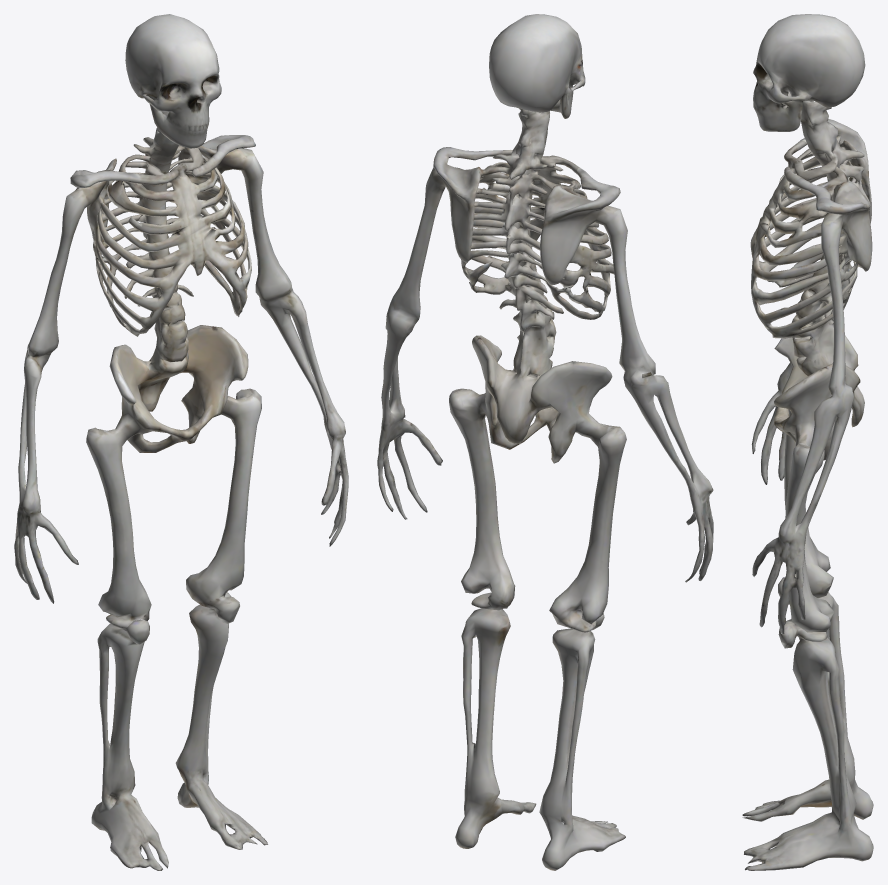
File: squelette.glb
3 views of the same model, side by side, from view 1: azimuth 30°, elevation 25°; view 2: azimuth 150°, elevation 25°; view 3: azimuth 270°, elevation 25° (orthographic).
Parts seen in each view (by area): view 1: Mesh1_Mesh1.019; view 2: Mesh1_Mesh1.019; view 3: Mesh1_Mesh1.019.
Boxes of the visible parts, x1,y1,x2,y2 form: Mesh1_Mesh1.019: (14,14,348,870); Mesh1_Mesh1.019: (377,14,713,870); Mesh1_Mesh1.019: (742,14,873,870).
Bounding box in the file's own units: 0.8415 × 2 × 0.2901.
1 material, 1 textured.
